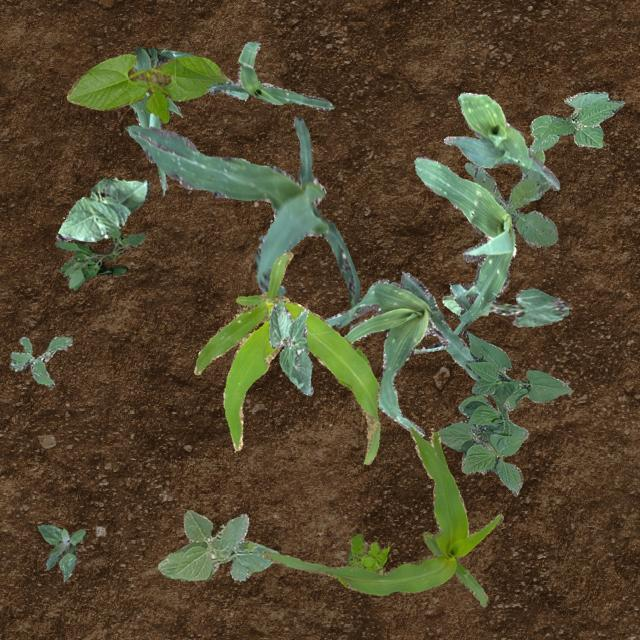crop: (126, 115, 360, 308), (260, 427, 502, 605), (192, 251, 380, 464), (322, 270, 478, 436), (436, 330, 572, 496), (412, 156, 516, 352), (128, 45, 248, 194), (442, 90, 558, 190), (66, 54, 228, 122), (206, 40, 332, 110), (156, 510, 278, 580), (56, 176, 150, 242), (528, 90, 624, 150), (442, 286, 568, 326), (268, 298, 312, 394)
weed: (464, 147, 556, 246), (54, 228, 144, 290), (9, 336, 72, 386), (36, 524, 84, 580), (346, 532, 388, 570)
